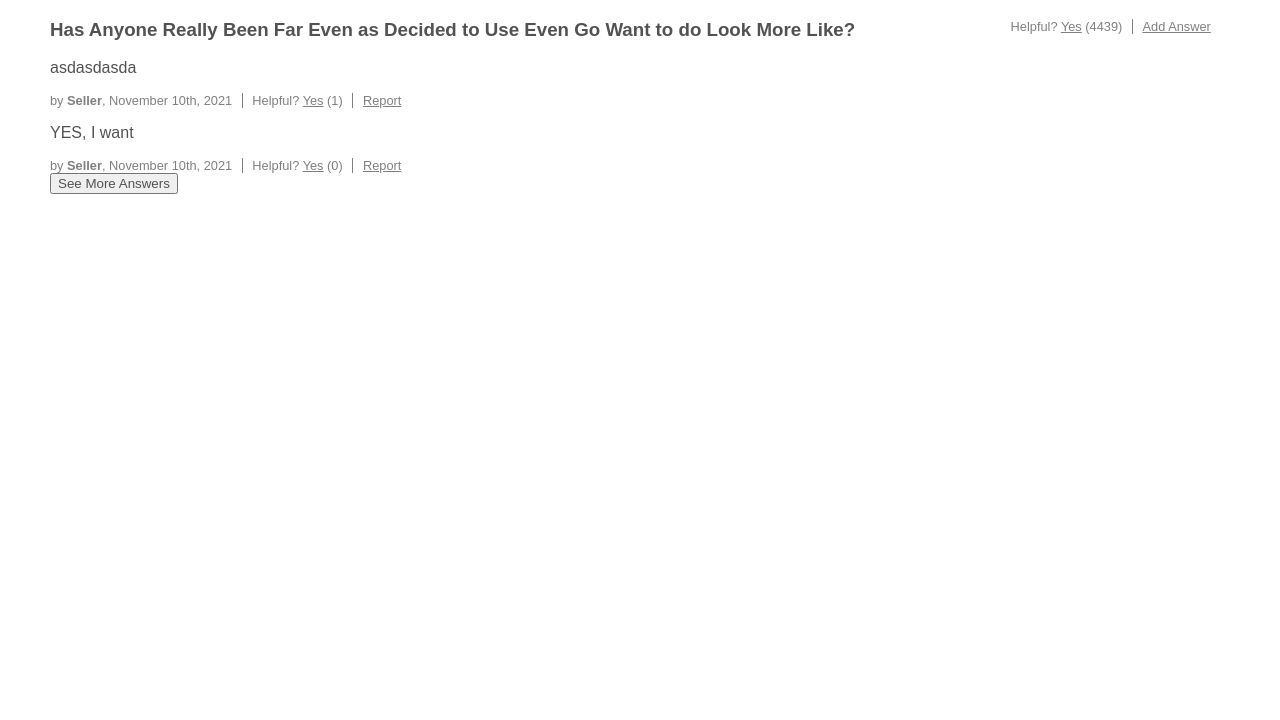
Test: removes the modal
The image size is (1280, 720).
Click the link "Add Answer" at (1177, 26), box [1142, 19, 1211, 34]
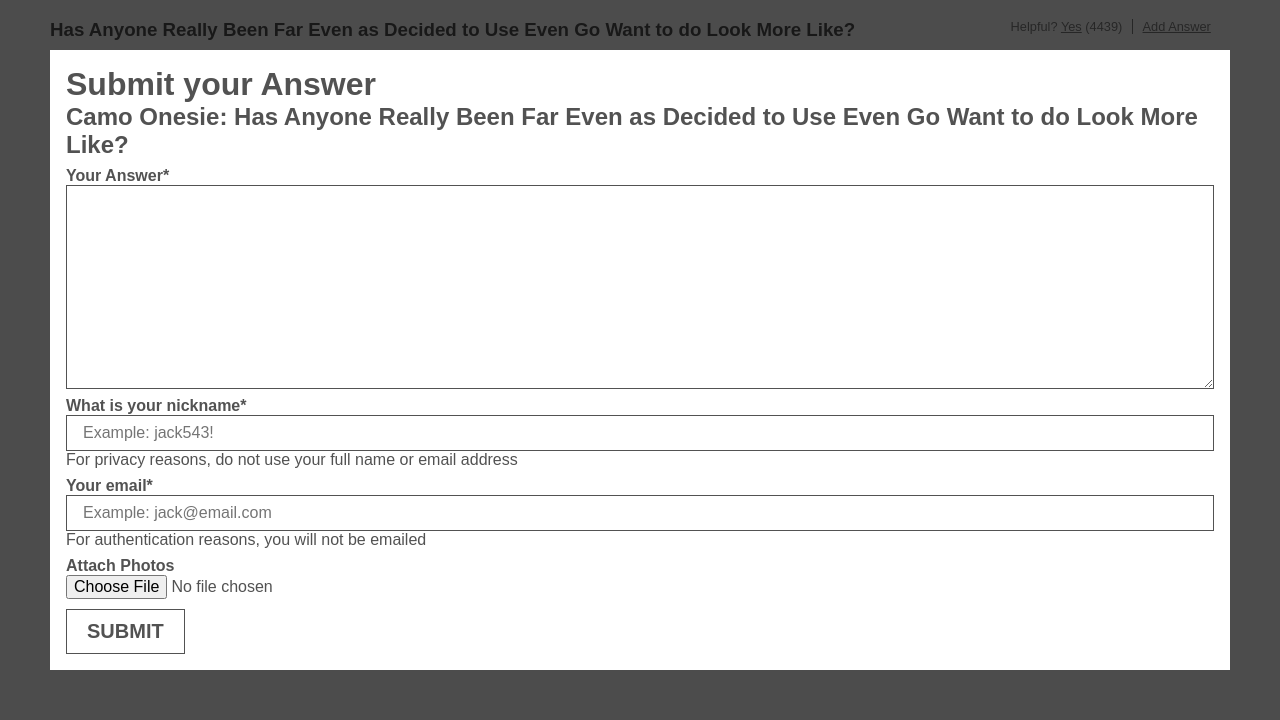
Click the dialog at (640, 677), box [0, 0, 1279, 719]
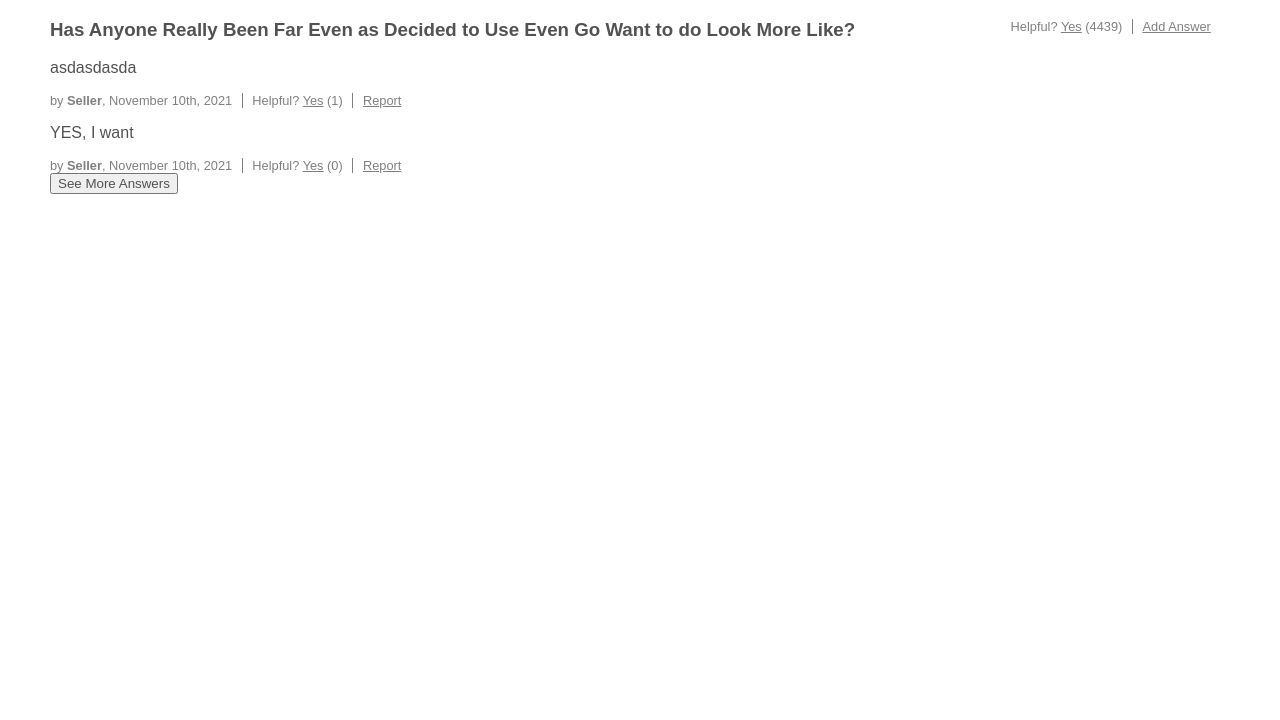
expect the dialog is gone: met
